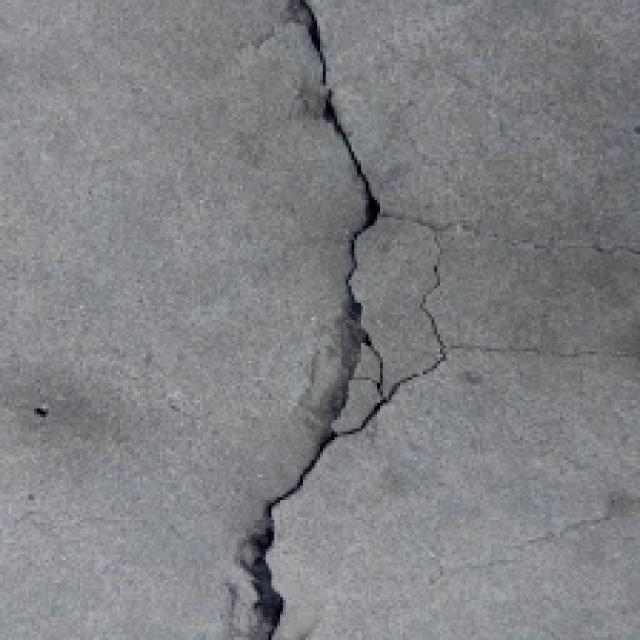crack: (214, 0, 454, 640)
